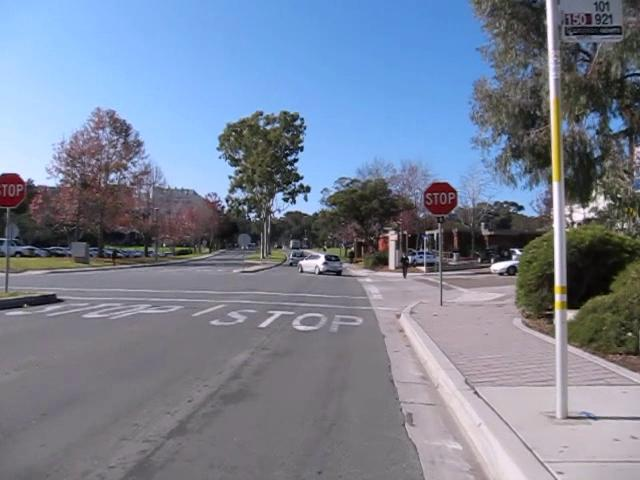stop: (422, 180, 458, 216)
